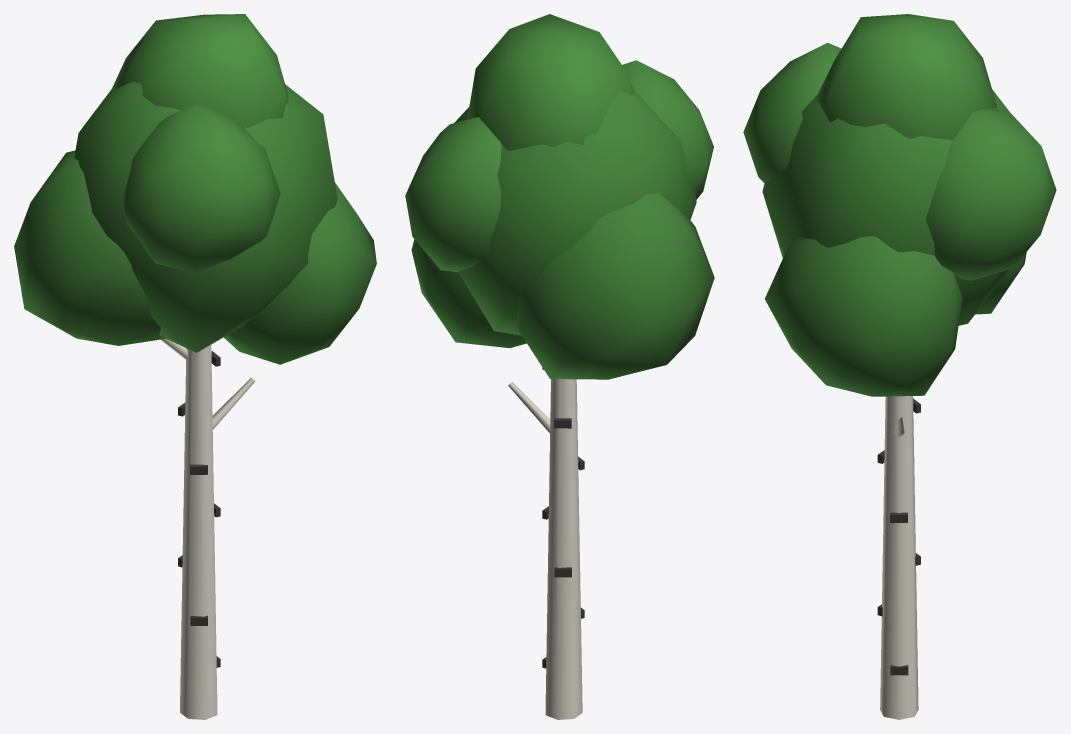
Rendered from Birch2.glb.
3 renders of one model, left to right at view 1: azimuth 30°, elevation 25°; view 2: azimuth 150°, elevation 25°; view 3: azimuth 270°, elevation 25°, orthographic. The views are drawn at different scales.
Visible parts, largest first — view 1: Birch2; view 2: Birch2; view 3: Birch2.
Boxes of the visible parts, left/top/right/bottom form: Birch2: left=14, top=14, right=376, bottom=719; Birch2: left=405, top=14, right=714, bottom=719; Birch2: left=743, top=14, right=1056, bottom=719.
Size of the model in its own units: 4.08 by 8.55 by 3.49.
